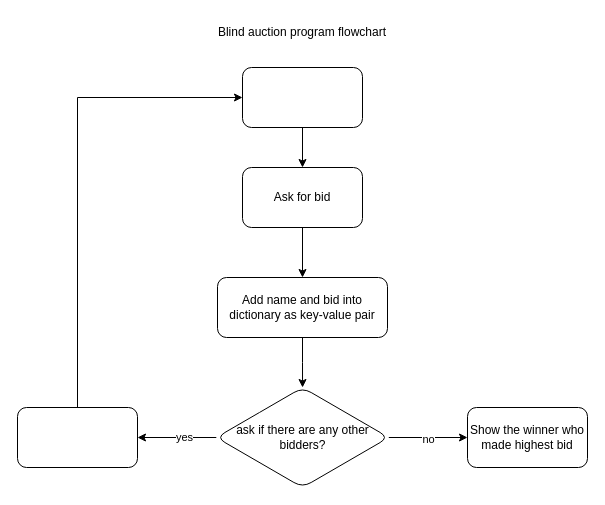
Some shapes in this 605 by 505 pixel diagram are drawn without their labels. Each missing label, with the box of its shape:
Ask for name: (242, 66, 362, 128)
Clear the screen.: (16, 406, 138, 468)
